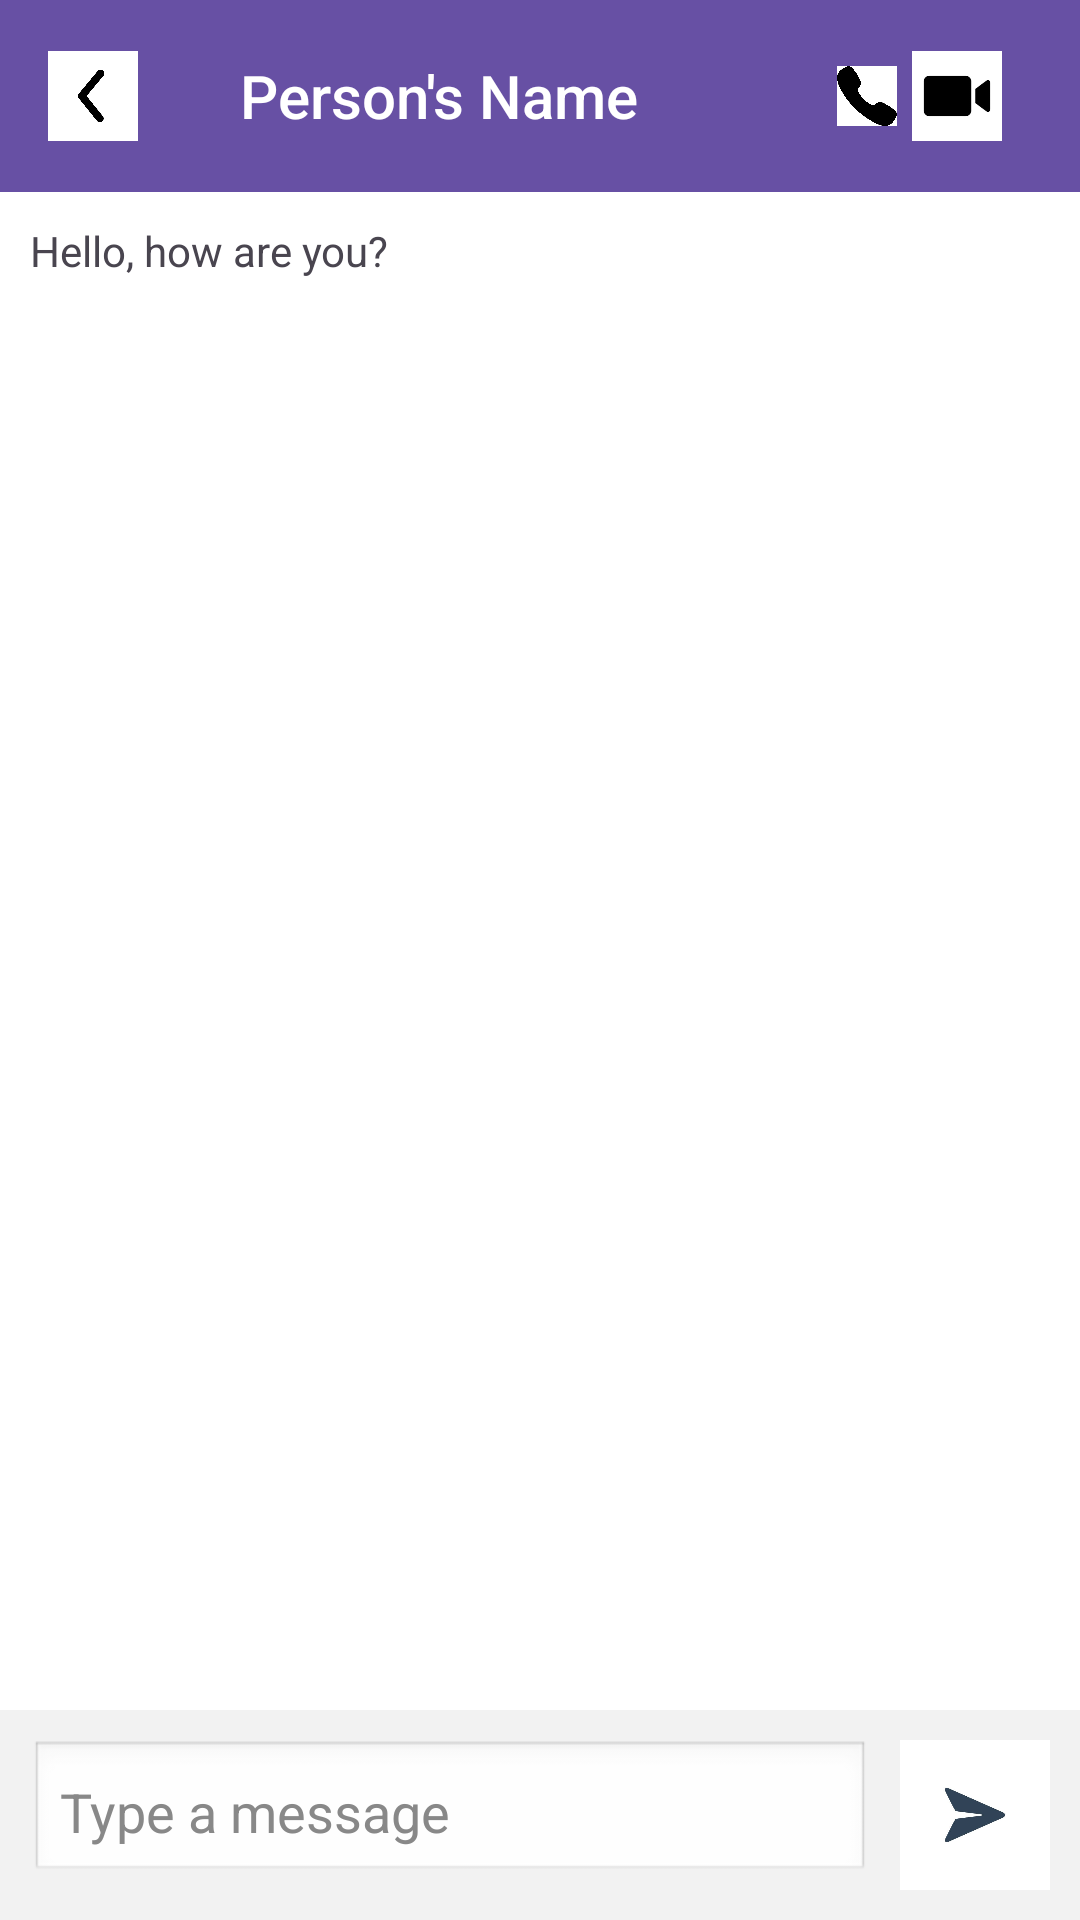

Icon click points for this 1080px×1920px phone screenshot, format [x,y]:
Go Back: [93,96]
